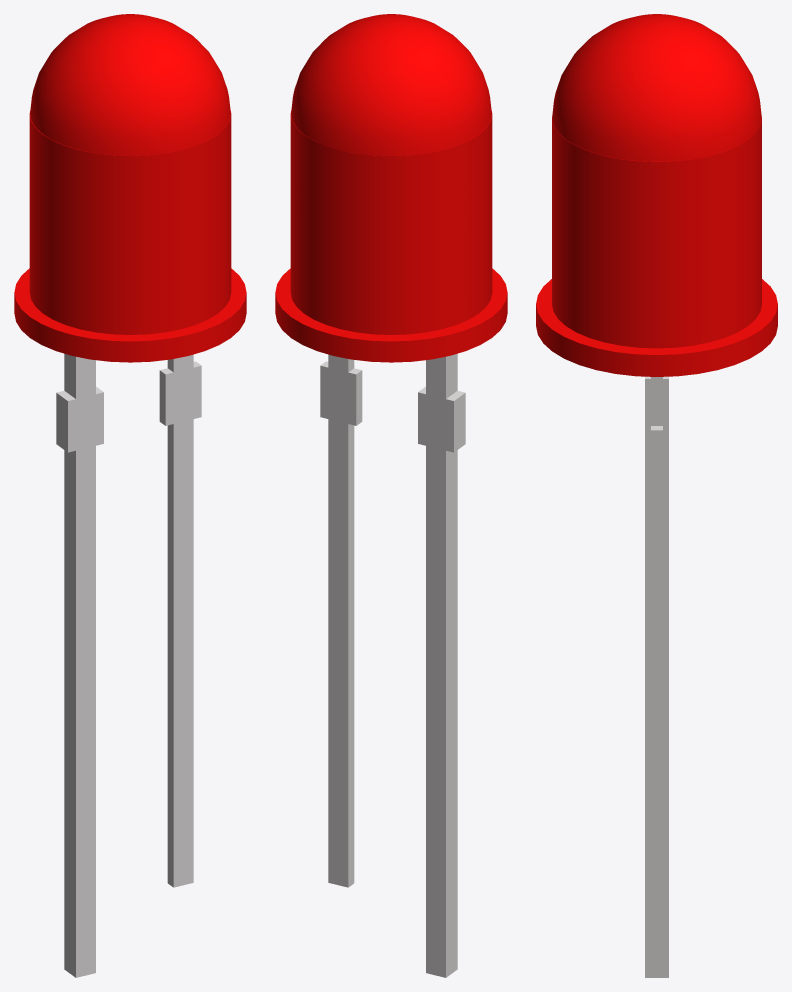
The model's file is LED.fbx.
The picture shows the model from 3 angles, left to right: view 1: azimuth 30°, elevation 25°; view 2: azimuth 150°, elevation 25°; view 3: azimuth 270°, elevation 25°; orthographic projection. The views are drawn at different scales.
Visible parts, largest first — view 1: Flat_Spot, Exposy_Case, Anode, Cathode; view 2: Flat_Spot, Exposy_Case, Anode, Cathode; view 3: Flat_Spot, Exposy_Case, Anode, Cathode.
Part boxes in pixels (<box>): Flat_Spot: <box>14,109,246,362</box>; Exposy_Case: <box>30,14,230,155</box>; Anode: <box>56,353,103,977</box>; Cathode: <box>159,354,201,887</box>; Flat_Spot: <box>275,109,507,362</box>; Exposy_Case: <box>291,14,491,155</box>; Anode: <box>418,353,465,977</box>; Cathode: <box>320,354,362,887</box>; Flat_Spot: <box>536,117,777,376</box>; Exposy_Case: <box>552,14,761,161</box>; Anode: <box>645,376,668,977</box>; Cathode: <box>651,377,662,962</box>.
Bounding box in the file's own units: 200 × 889 × 200.
